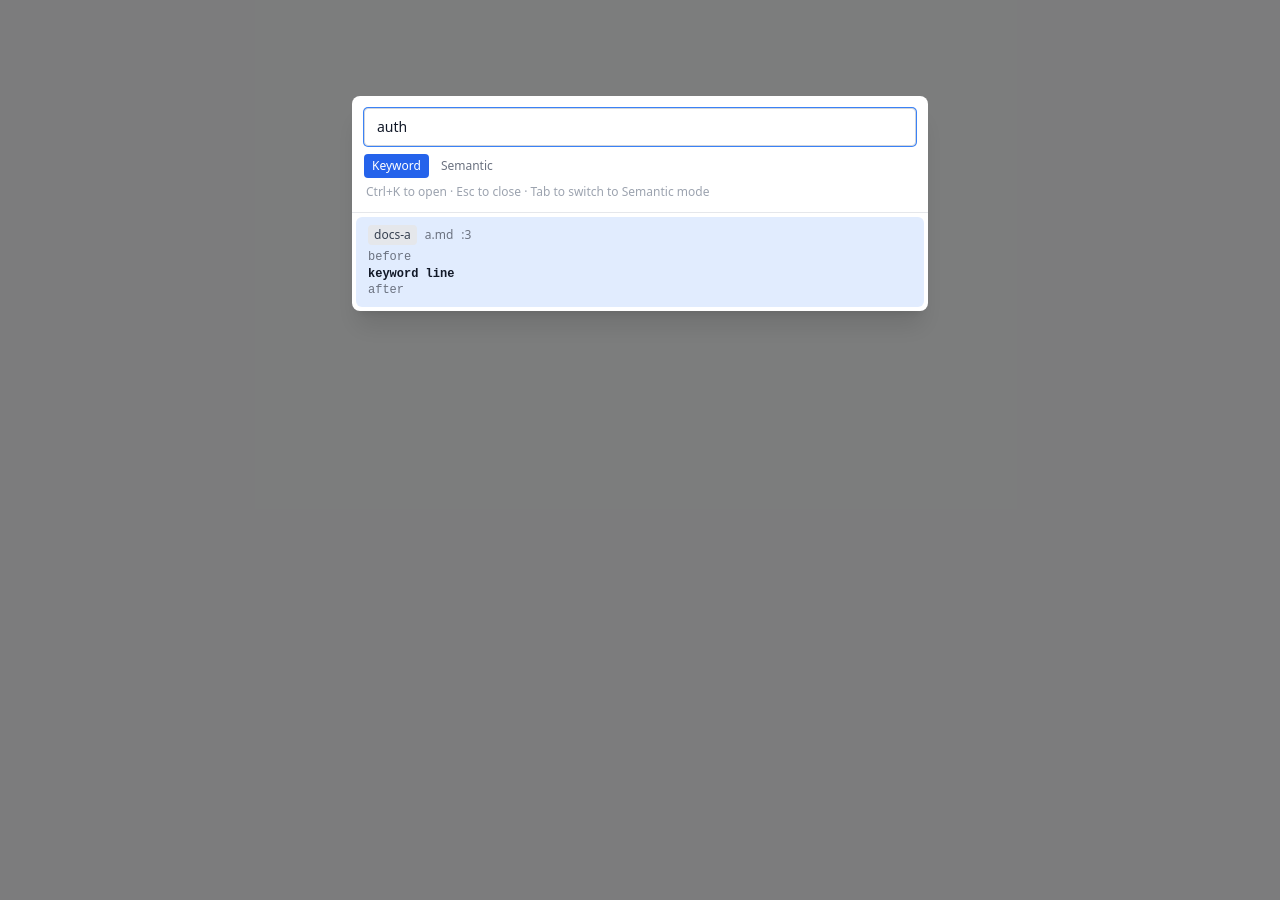
Test: CommandPalette › renders keyword/semantic mode tabs and switches the visible result list, keeping the query
The width and height of the screenshot is (1280, 900).
Click the button "Semantic". click: (467, 166)
box: [433,154,501,178]
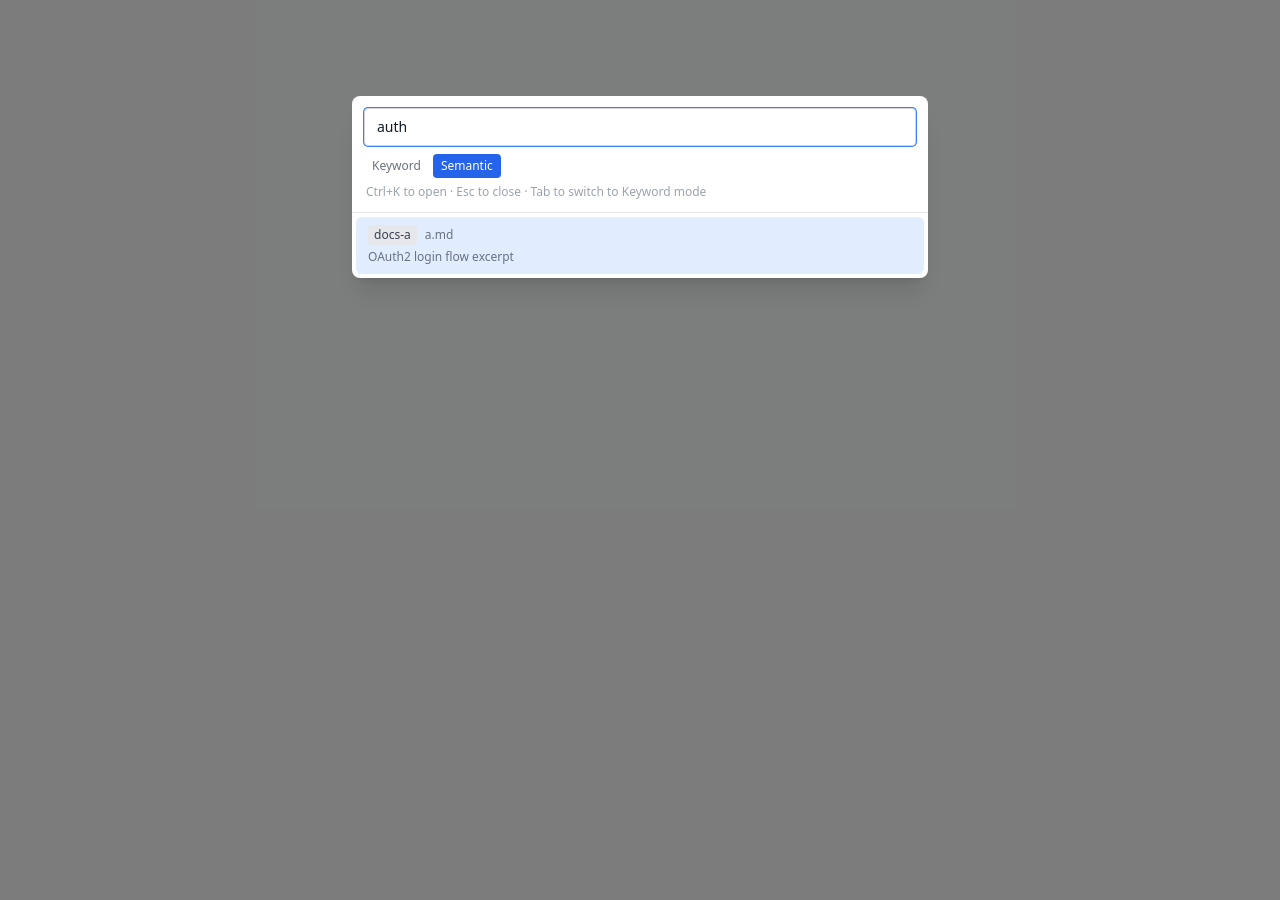
Now the text "OAuth2 login flow excerpt" is shown, box [368,248,514,265]
Now the text "keyword line" is gone
